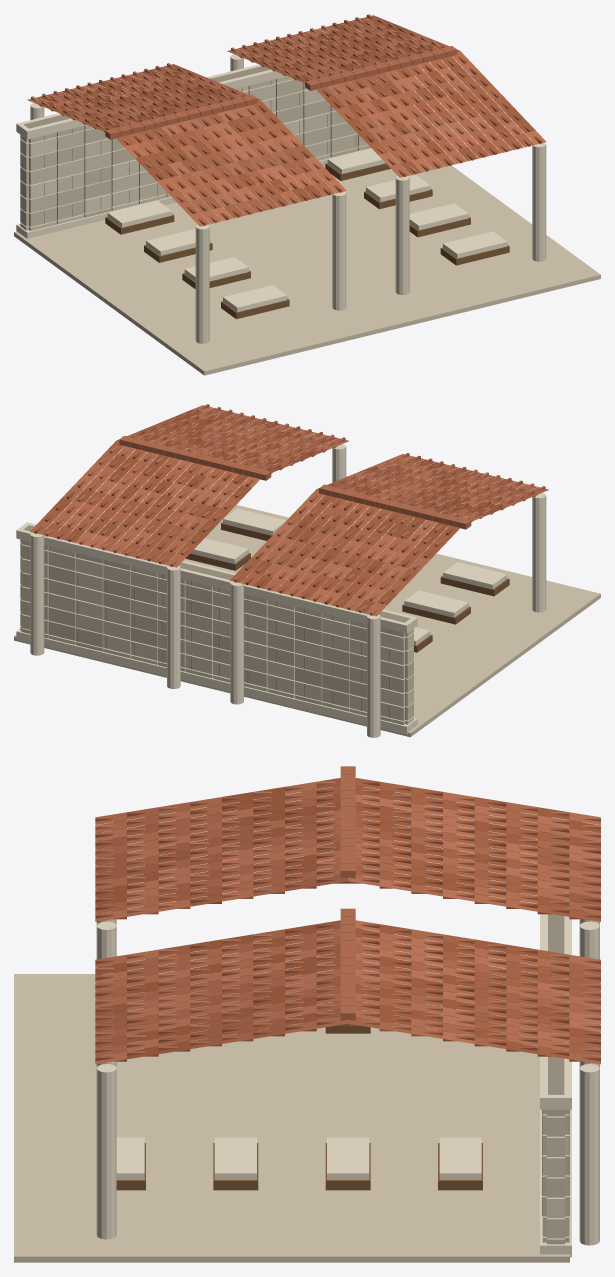
3 views of the same model, one above another, from view 1: azimuth 30°, elevation 25°; view 2: azimuth 150°, elevation 25°; view 3: azimuth 270°, elevation 25° (orthographic). The views are drawn at different scales.
Parts seen in each view (by area): view 1: Bergfried – Steine, Säulen, Ziegel und Feuerstelle; view 2: Bergfried – Steine, Säulen, Ziegel und Feuerstelle; view 3: Bergfried – Steine, Säulen, Ziegel und Feuerstelle.
Boxes of the visible parts, box(x1,y1,x2,y2) form: Bergfried – Steine, Säulen, Ziegel und Feuerstelle: box(14, 14, 600, 375); Bergfried – Steine, Säulen, Ziegel und Feuerstelle: box(14, 404, 600, 737); Bergfried – Steine, Säulen, Ziegel und Feuerstelle: box(14, 766, 600, 1262).
Size of the model in its own units: 1190 by 445 by 1045.
